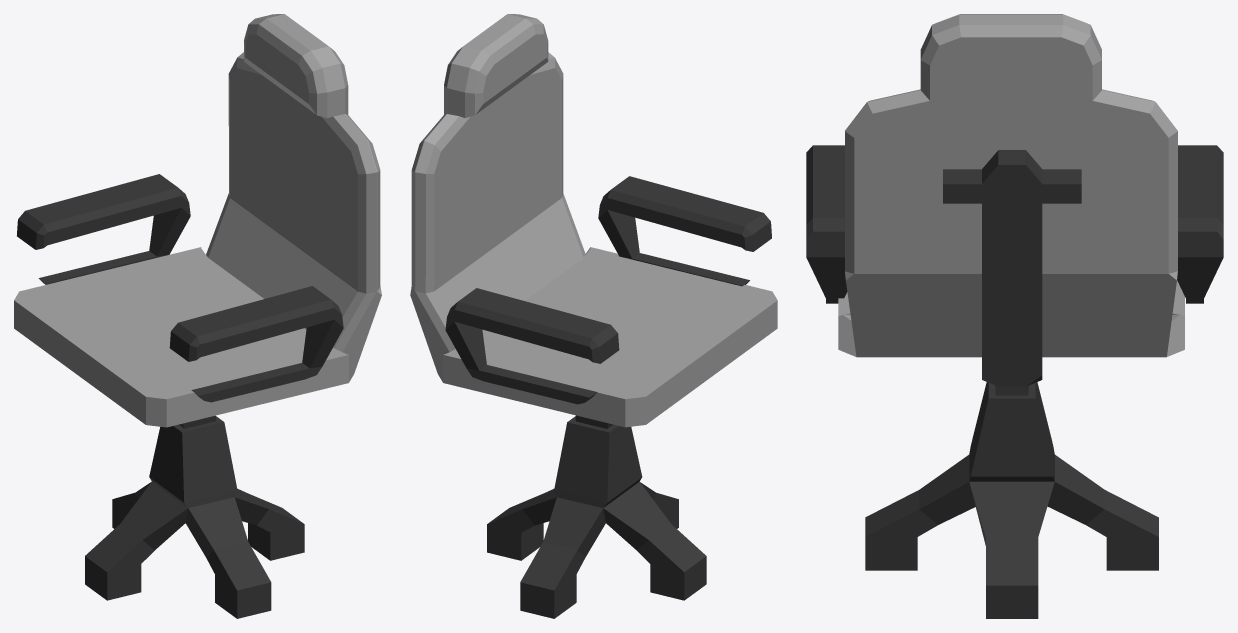
The model's file is ManagerChairWhite.fbx.
3 renders of one model, left to right at view 1: azimuth 30°, elevation 25°; view 2: azimuth 150°, elevation 25°; view 3: azimuth 270°, elevation 25°, orthographic. The views are drawn at different scales.
Parts seen in each view (by area): view 1: ManagerChairWhite; view 2: ManagerChairWhite; view 3: ManagerChairWhite.
Boxes of the visible parts, left/top/right/bottom form: ManagerChairWhite: left=14, top=14, right=381, bottom=618; ManagerChairWhite: left=410, top=14, right=777, bottom=618; ManagerChairWhite: left=806, top=14, right=1223, bottom=618.
Bounding box in the file's own units: 218 × 411 × 258.
